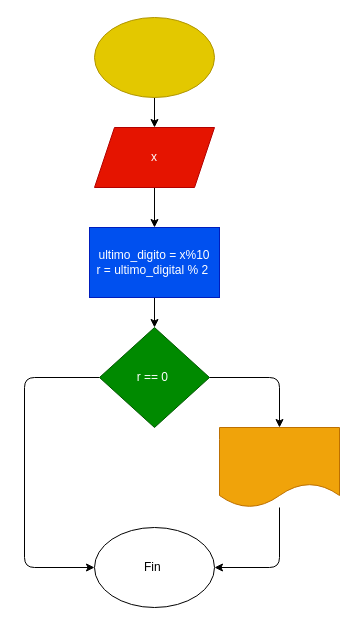
The diagram is 357 pixels wide and 625 high, and some of its shapes have lost their labels. Each missing label, with the centre of its shape:
"inicio" belongs at [154,57].
"ultimo digito es par" belongs at [279,467].
